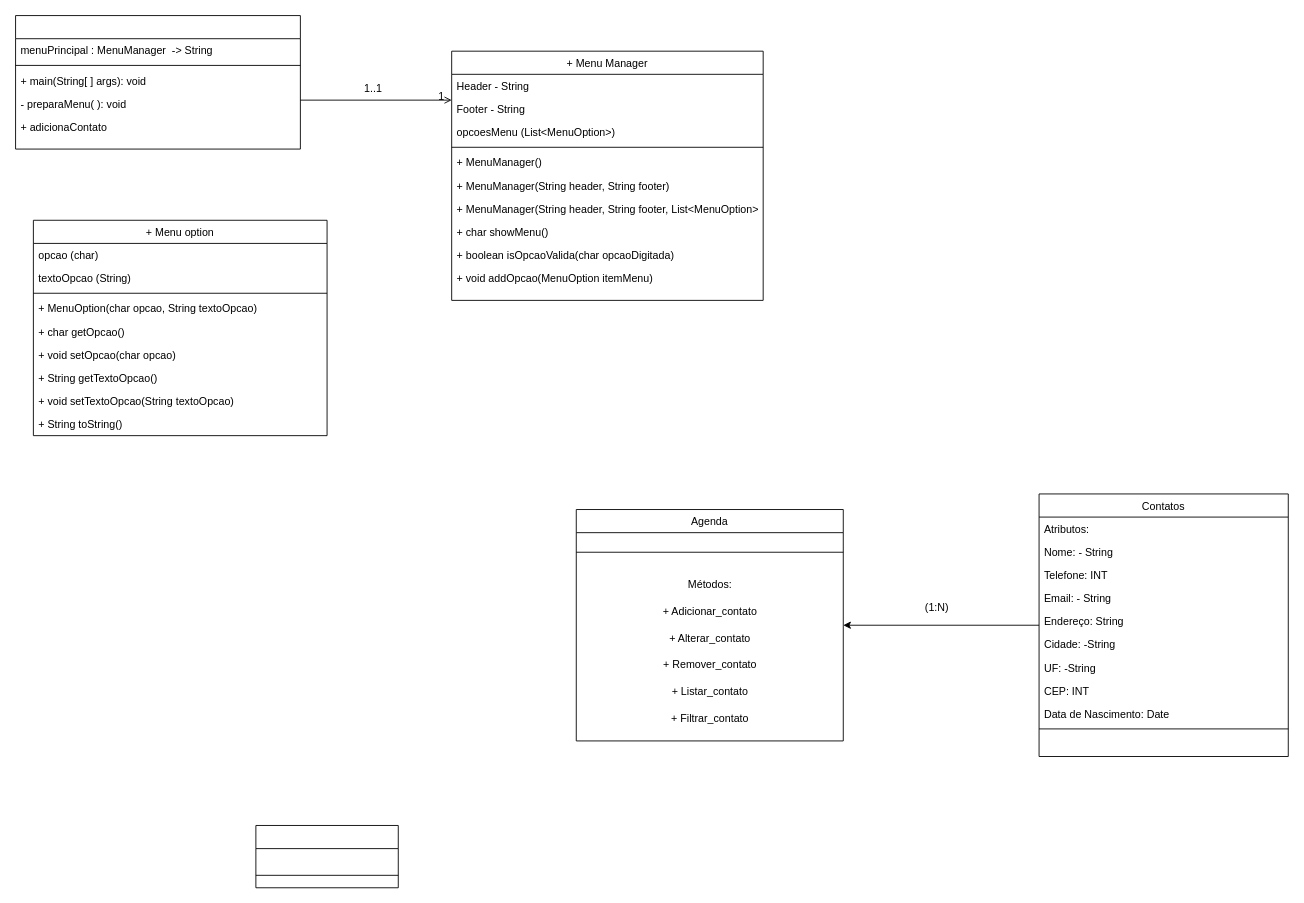
Image size: 1304x903. Some labels were removed from this diagram. The shapes that lost their labels are listed below. From the top down, each one's box as (x1, y1, x2, y2) in pixels, then its label:
(15, 15, 300, 149): AgendaApp
(255, 825, 398, 888): Salary
